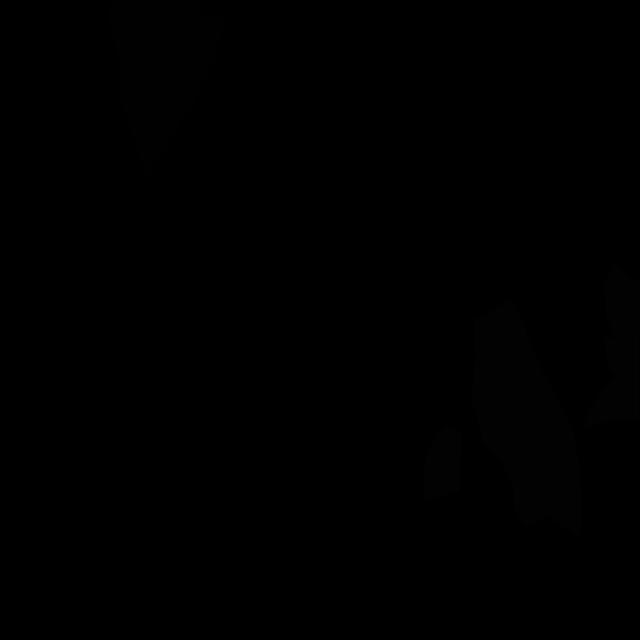cardboard: (471, 300, 582, 538), (581, 262, 640, 429), (423, 423, 462, 501)
rigid_plastic: (108, 0, 226, 177)
